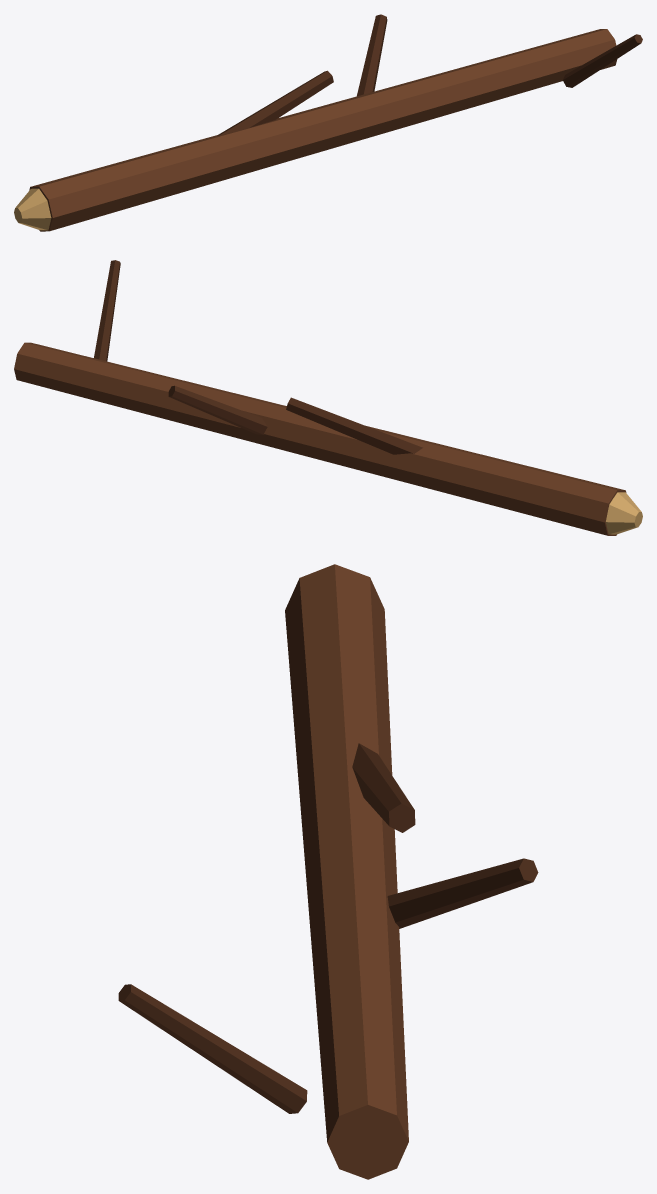
Rendered from pickup_branch.glb.
3 renders of one model, top to bottom at view 1: azimuth 30°, elevation 25°; view 2: azimuth 150°, elevation 25°; view 3: azimuth 270°, elevation 25°, orthographic. The views are drawn at different scales.
Parts seen in each view (by area): view 1: Branch_Main, Twig_1, Twig_2, Twig_3, Broken_End; view 2: Branch_Main, Twig_1, Twig_2, Twig_3, Broken_End; view 3: Branch_Main, Twig_3, Twig_2, Twig_1.
Part boxes in pixels (<box>): Branch_Main: <box>29,29,617,231</box>; Twig_1: <box>218,70,333,135</box>; Twig_2: <box>357,14,387,96</box>; Twig_3: <box>563,34,642,87</box>; Broken_End: <box>14,188,51,230</box>; Branch_Main: <box>14,342,626,535</box>; Twig_1: <box>286,397,422,454</box>; Twig_2: <box>168,385,267,435</box>; Twig_3: <box>94,260,120,361</box>; Broken_End: <box>605,492,642,534</box>; Branch_Main: <box>285,564,408,1179</box>; Twig_3: <box>118,984,307,1113</box>; Twig_2: <box>387,858,538,928</box>; Twig_1: <box>352,743,415,832</box>.
Size of the model in its own units: 0.8312 by 0.1349 by 0.2523.
